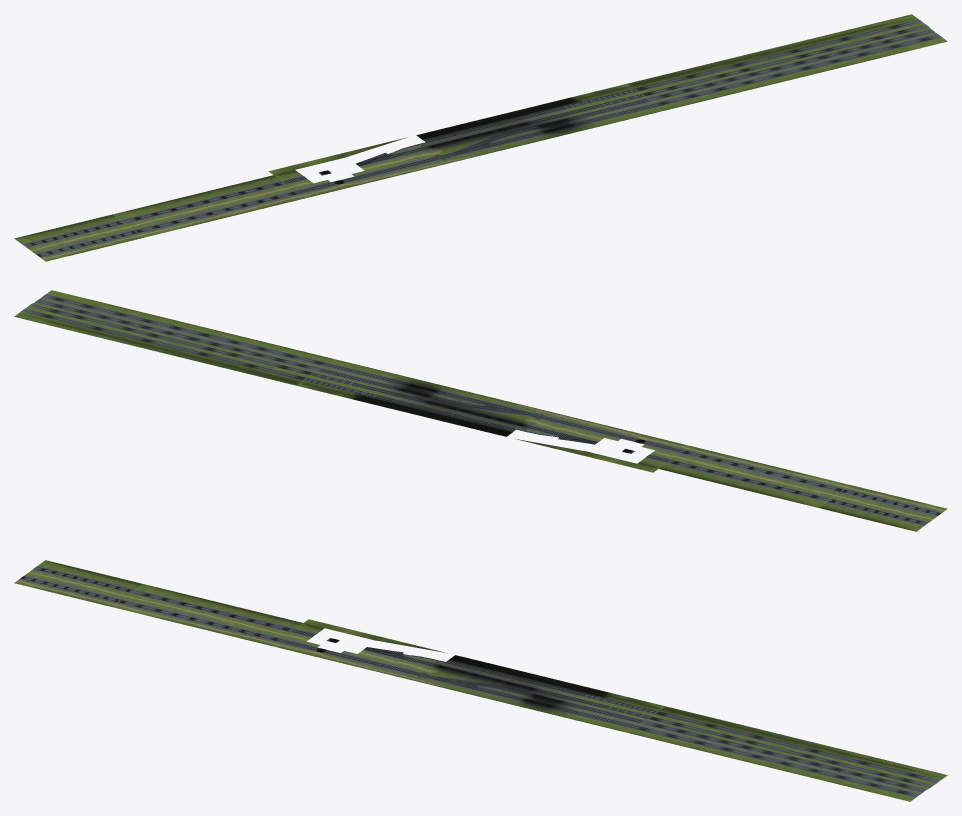
Rendered from plALL.fbx.
The picture shows the model from 3 angles, top to bottom: view 1: azimuth 30°, elevation 25°; view 2: azimuth 150°, elevation 25°; view 3: azimuth 330°, elevation 25°; orthographic projection.
Parts seen in each view (by area): view 1: plALL; view 2: plALL; view 3: plALL.
Boxes of the visible parts, x1=… form: plALL: x1=14, y1=14, x2=947, y2=261; plALL: x1=14, y1=290, x2=947, y2=531; plALL: x1=14, y1=560, x2=947, y2=801.
Bounding box in the file's own units: 394 × 0.0806 × 27.99.
